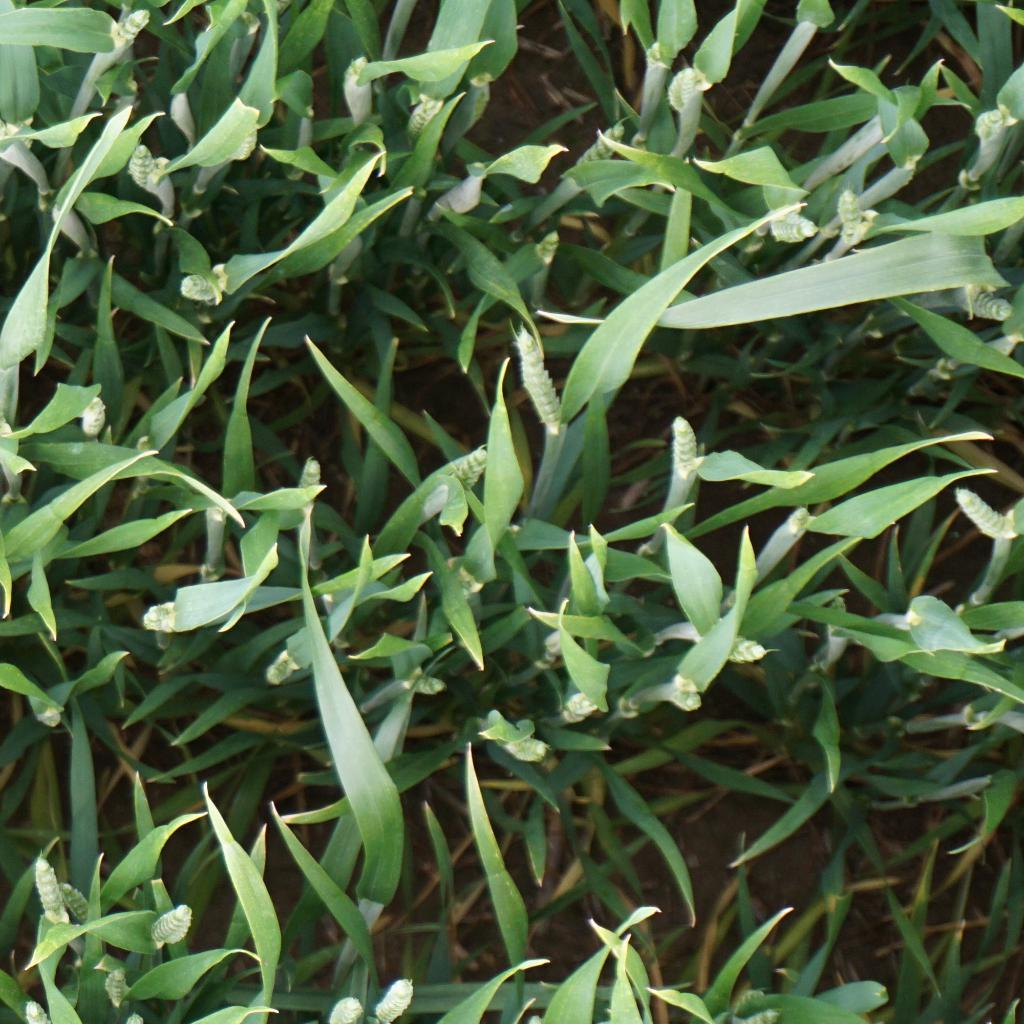0-0: (507, 311, 573, 443), (16, 844, 76, 945), (416, 436, 499, 506), (931, 486, 1024, 546), (117, 889, 205, 952), (201, 107, 285, 171), (135, 591, 244, 638), (948, 264, 1017, 333), (471, 718, 562, 769), (557, 667, 629, 729), (529, 601, 579, 689), (75, 948, 139, 1016), (113, 139, 179, 203), (51, 866, 105, 943), (743, 204, 834, 249), (253, 632, 320, 692), (694, 630, 783, 671), (574, 116, 633, 175), (664, 409, 704, 496), (290, 444, 329, 531), (386, 665, 472, 703), (648, 668, 713, 718), (173, 267, 246, 309), (360, 978, 422, 1024), (399, 88, 455, 136), (663, 61, 711, 117), (104, 2, 153, 52), (339, 41, 375, 109), (515, 220, 567, 267), (73, 381, 110, 444), (833, 186, 873, 241), (819, 590, 856, 635), (738, 983, 778, 1024), (317, 994, 371, 1024), (969, 107, 1009, 143), (645, 31, 672, 72)
